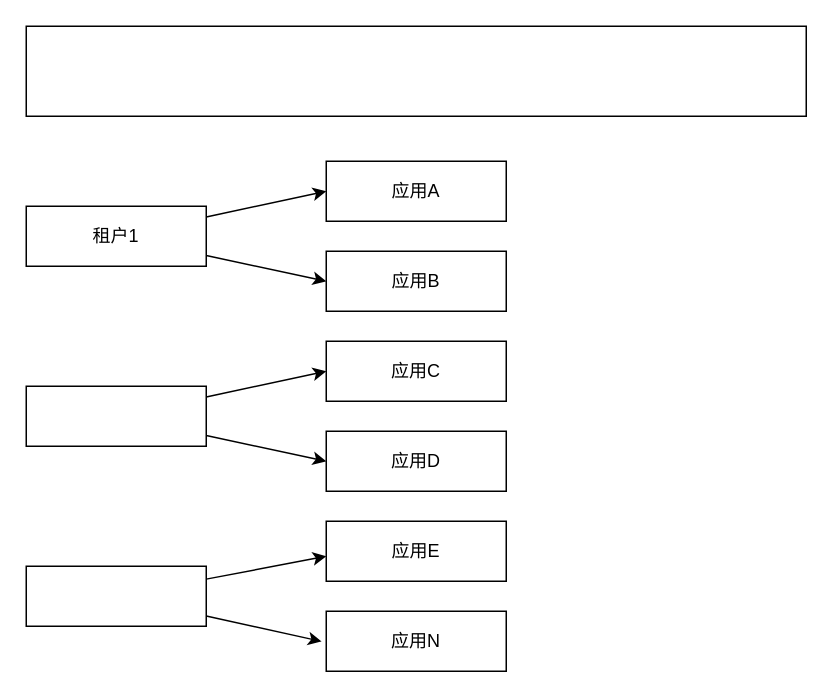
This 833x698 diagram has some shape labels left out. Each missing label, with the box of its shape:
SaaS 平台: (25, 25, 806, 116)
租户2: (25, 385, 206, 446)
租户3: (25, 565, 206, 626)
